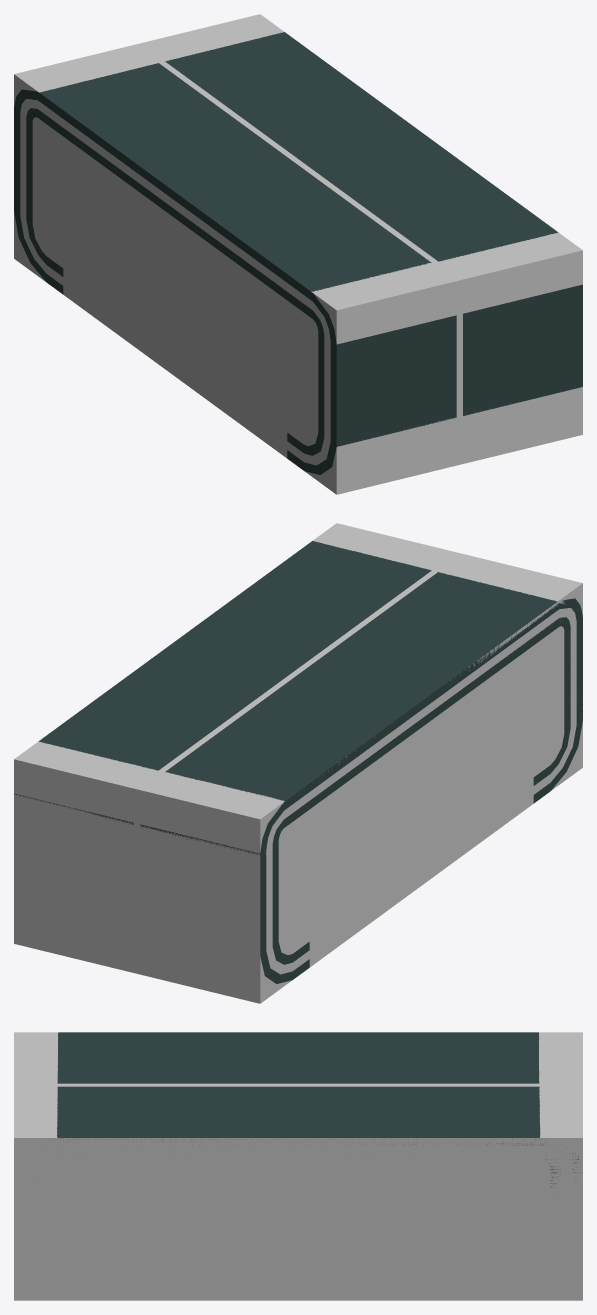
Rendered from SM_Table_01.fbx.
3 renders of one model, top to bottom at view 1: azimuth 30°, elevation 25°; view 2: azimuth 150°, elevation 25°; view 3: azimuth 270°, elevation 25°, orthographic. The views are drawn at different scales.
Parts seen in each view (by area): view 1: SM_Table_01, SM_Table_01_ConvexHulls; view 2: SM_Table_01_ConvexHulls, SM_Table_01; view 3: SM_Table_01_ConvexHulls, SM_Table_01.
Part boxes in pixels (x1,y1,x2,y2): SM_Table_01: [14, 32, 582, 474]; SM_Table_01_ConvexHulls: [14, 14, 582, 494]; SM_Table_01_ConvexHulls: [14, 523, 582, 1003]; SM_Table_01: [14, 541, 582, 983]; SM_Table_01_ConvexHulls: [14, 1032, 582, 1300]; SM_Table_01: [57, 1032, 580, 1187].
Size of the model in its own units: 118 by 268 by 84.59.
2 materials, 1 textured.
